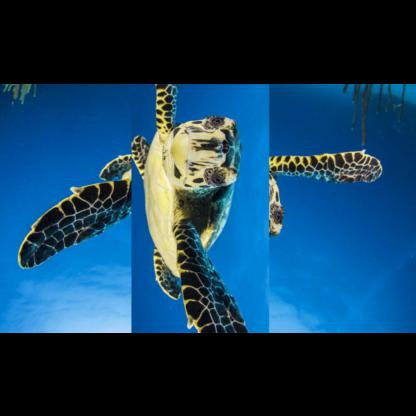turtle: (75, 83, 326, 324)
